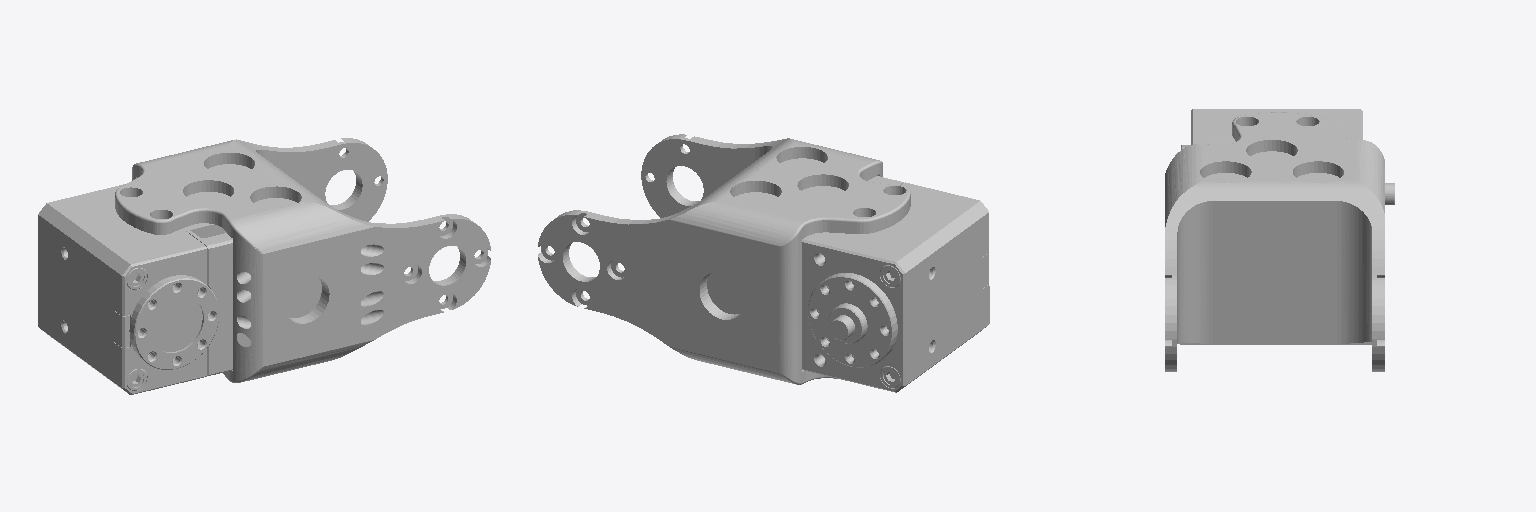
3 renders of one model, left to right at view 1: azimuth 30°, elevation 25°; view 2: azimuth 150°, elevation 25°; view 3: azimuth 270°, elevation 25°, orthographic.
Visible parts, largest first — view 1: link3; view 2: link3; view 3: link3.
Part boxes in pixels (x1,y1,x2,y2): link3: (38, 138, 490, 394); link3: (538, 134, 989, 392); link3: (1165, 109, 1394, 371).
Size of the model in its own units: 0.0812 by 0.035 by 0.0455.